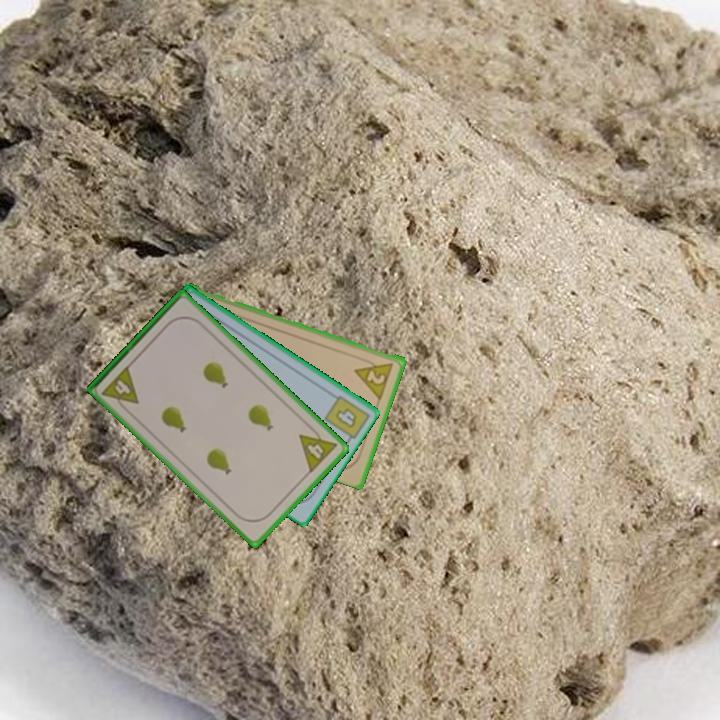2p: (351, 355, 397, 401)
4b: (332, 404, 360, 431)
4p: (295, 421, 340, 476), (98, 362, 142, 415)
